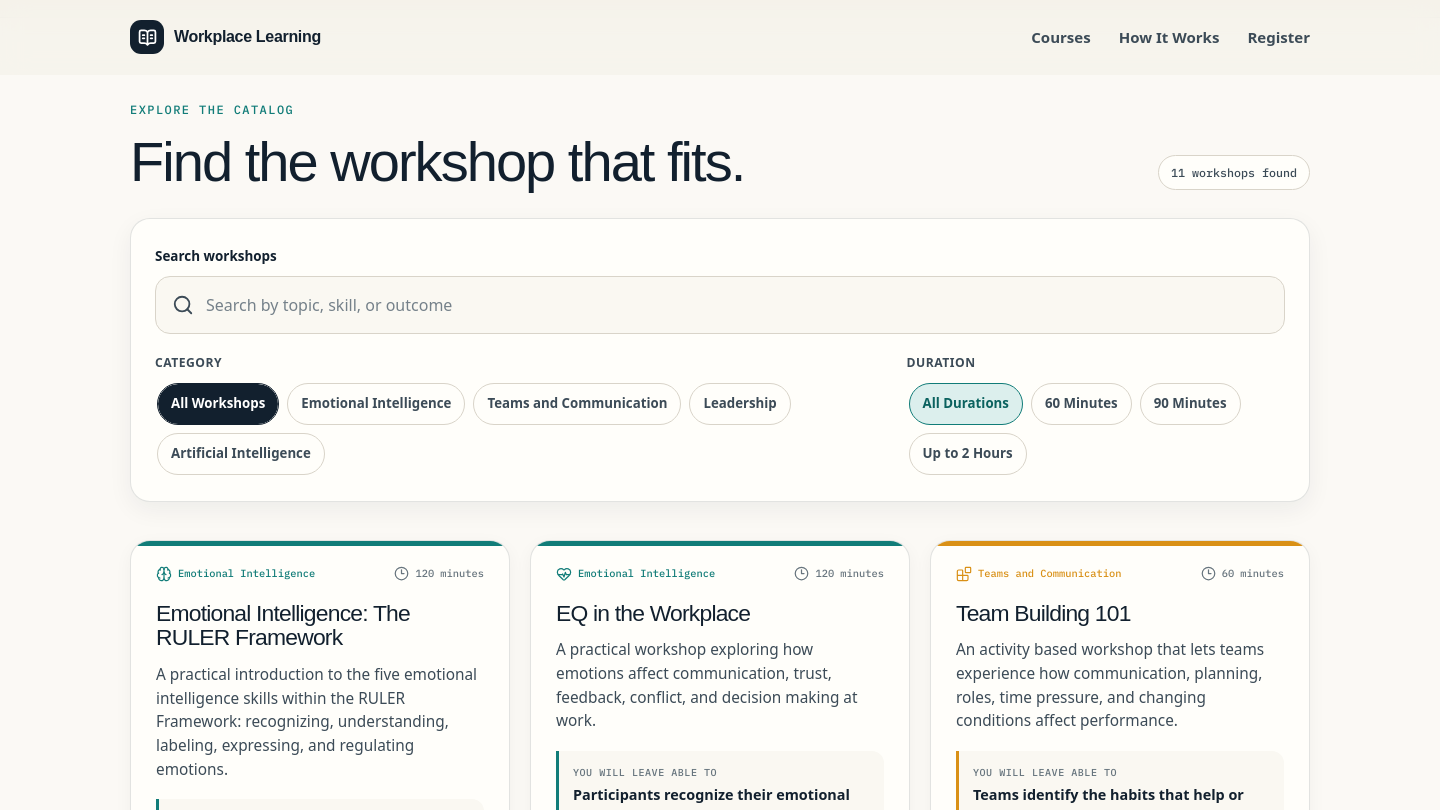
Test: workshop explorer › combines search, category, and duration filters
(page scrolled)
Click the button "Artificial Intelligence" at (241, 454), box [157, 433, 325, 475]
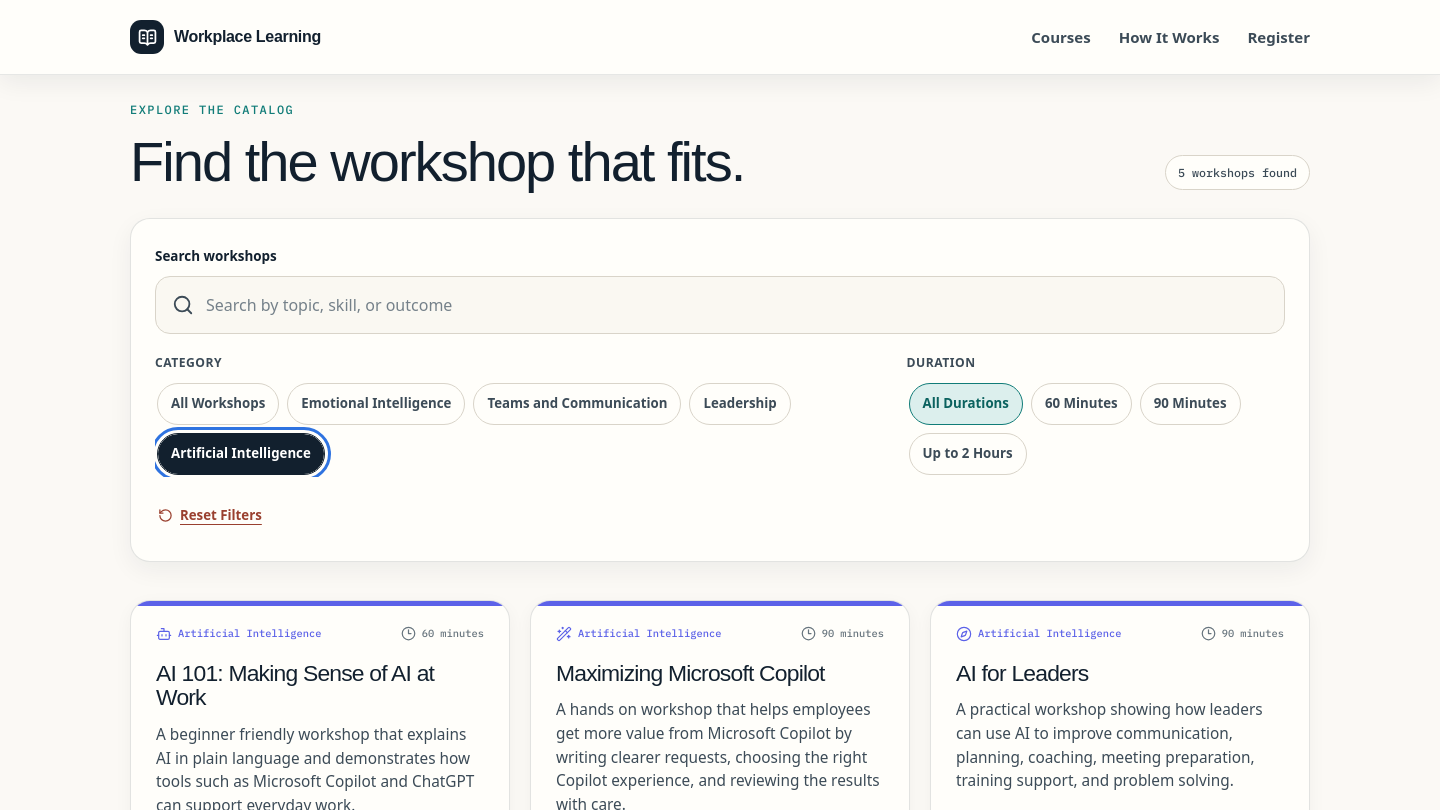
Click the button "90 Minutes" at (1190, 404), box [1140, 383, 1240, 425]
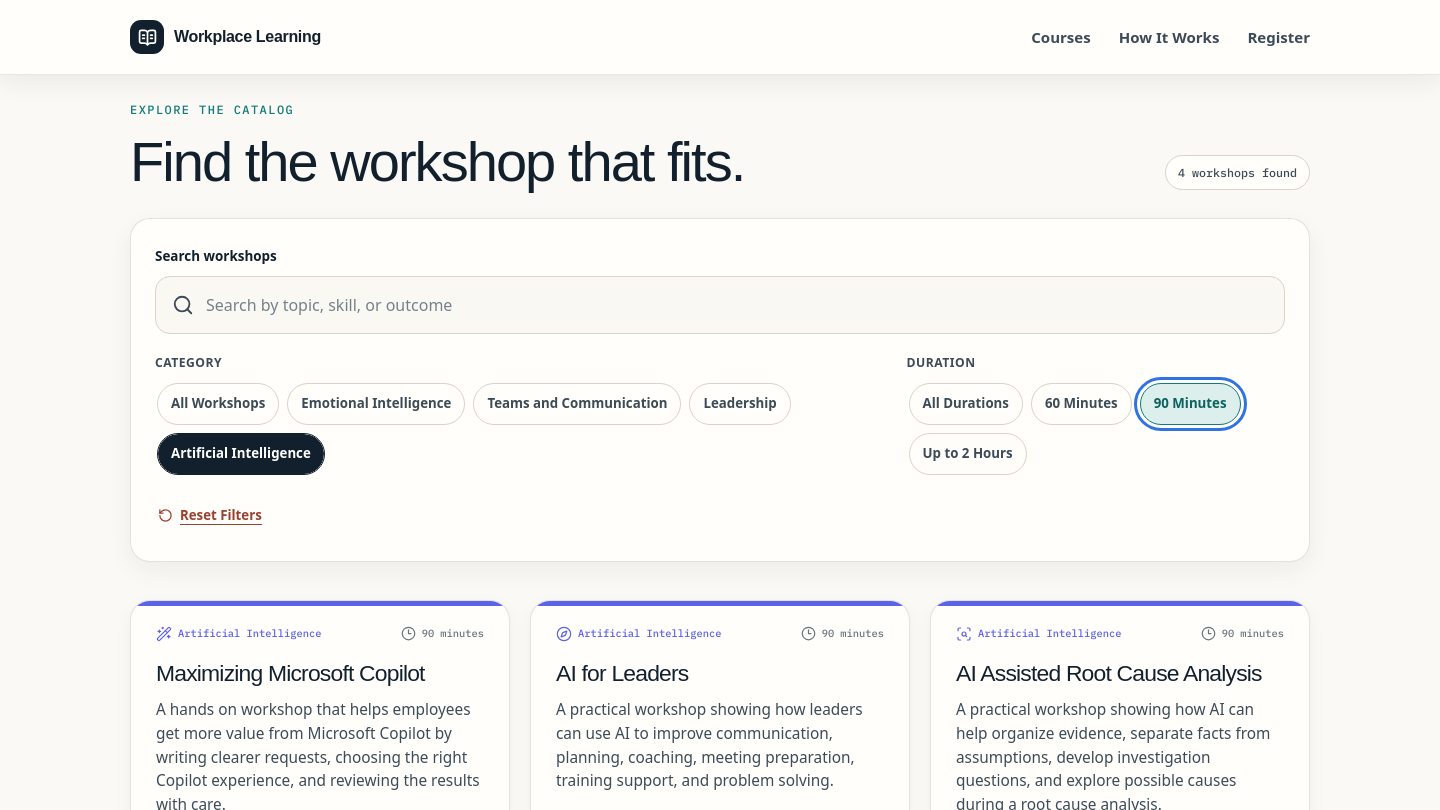
Type "fishbone" into the search field labelled "Search workshops" at (739, 304), box [194, 276, 1284, 332]
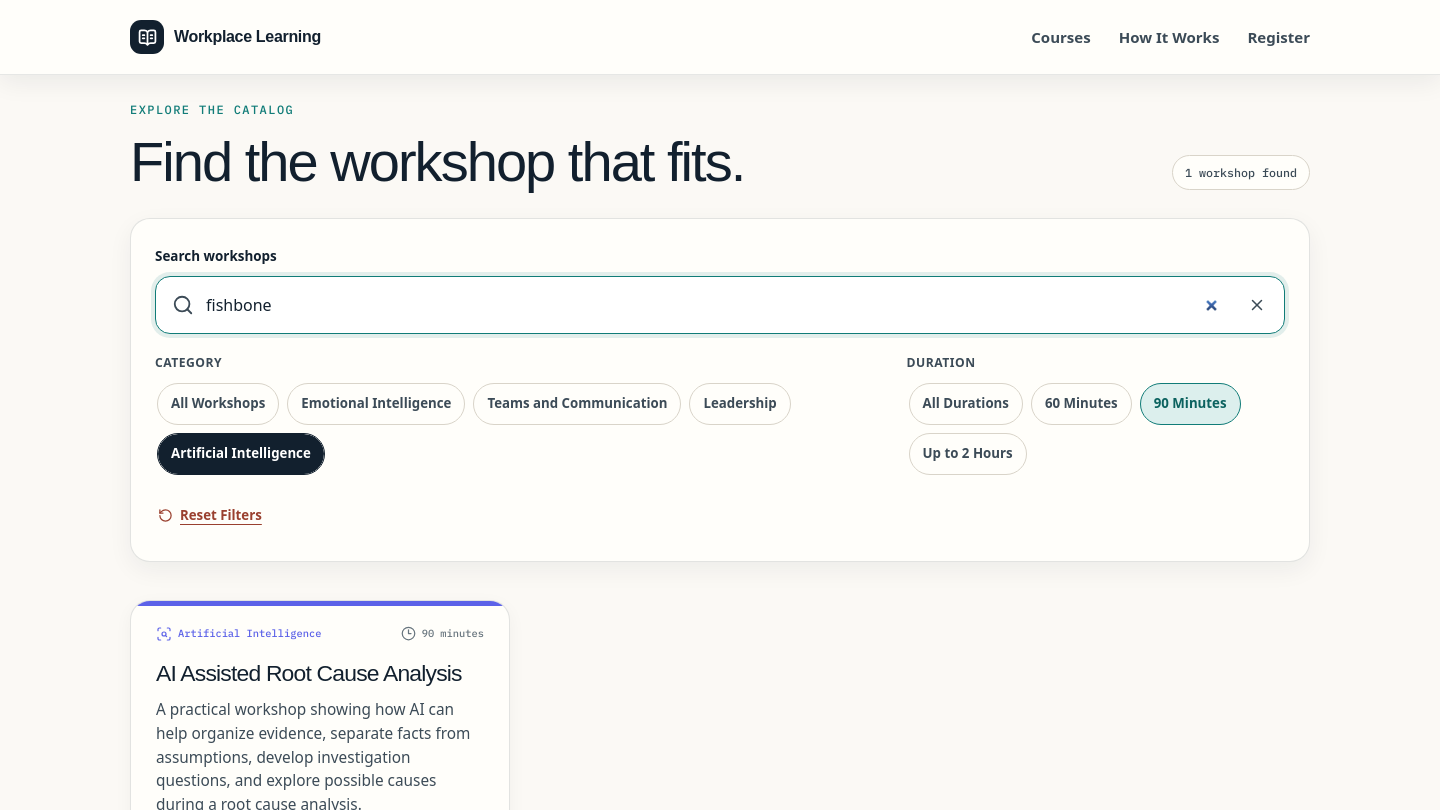
Expected: the heading "AI Assisted Root Cause Analysis" is shown, [156, 661, 484, 686]
Now the message reads "1 workshop found", box [1185, 165, 1297, 180]
